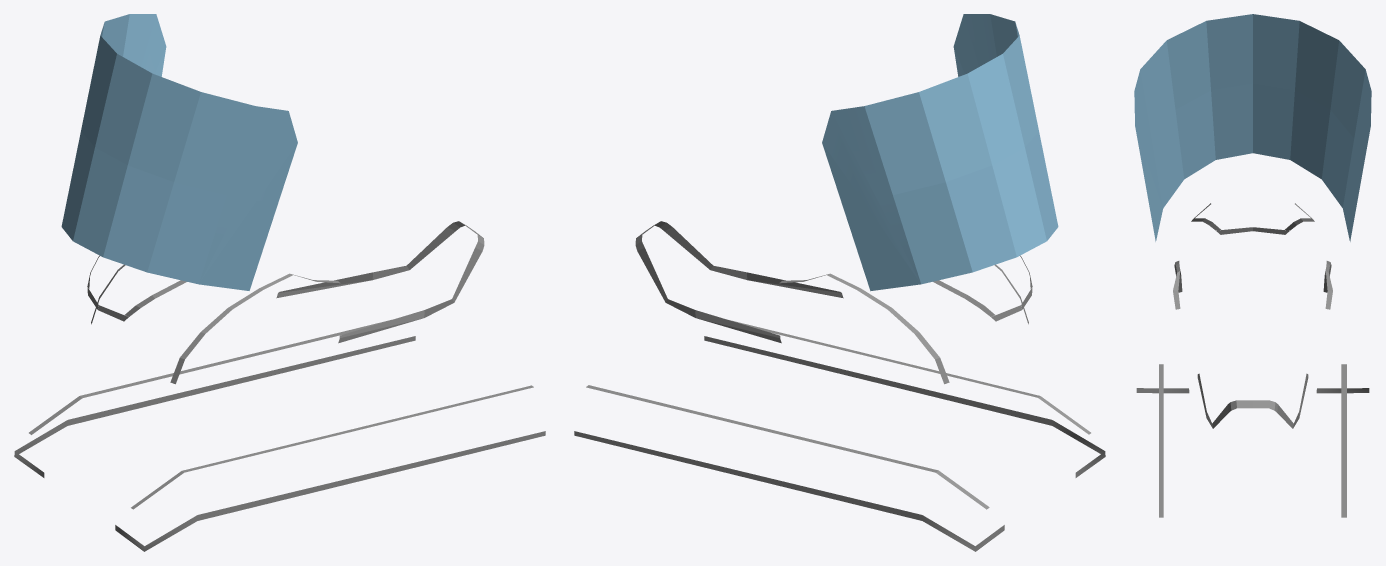
File: FX_MESH_Myroom_SpeedRace01.fbx
3 renders of one model, left to right at view 1: azimuth 30°, elevation 25°; view 2: azimuth 150°, elevation 25°; view 3: azimuth 270°, elevation 25°, orthographic. The views are drawn at different scales.
Parts seen in each view (by area): view 1: screen 1, Body LED 01, Body LED 03, Body LED 02; view 2: screen 1, Body LED 01, Body LED 03, Body LED 02; view 3: screen 1, Body LED 01, Body LED 02, Body LED 03.
Boxes of the visible parts, x1=… form: screen 1: x1=61, y1=14, x2=297, y2=290; Body LED 01: x1=14, y1=319, x2=545, y2=551; Body LED 03: x1=276, y1=221, x2=484, y2=343; Body LED 02: x1=87, y1=255, x2=340, y2=384; screen 1: x1=822, y1=14, x2=1058, y2=291; Body LED 01: x1=574, y1=320, x2=1105, y2=551; Body LED 03: x1=635, y1=221, x2=843, y2=343; Body LED 02: x1=779, y1=255, x2=1032, y2=384; screen 1: x1=1134, y1=14, x2=1371, y2=241; Body LED 01: x1=1136, y1=364, x2=1369, y2=517; Body LED 02: x1=1173, y1=203, x2=1332, y2=309; Body LED 03: x1=1197, y1=373, x2=1308, y2=428.
Bounding box in the file's own units: 2.03 × 2.09 × 1.14.
